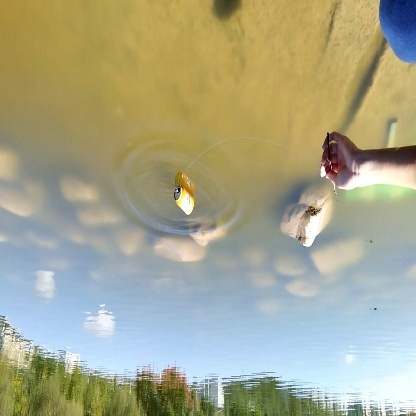bottle: (172, 184, 197, 217)
